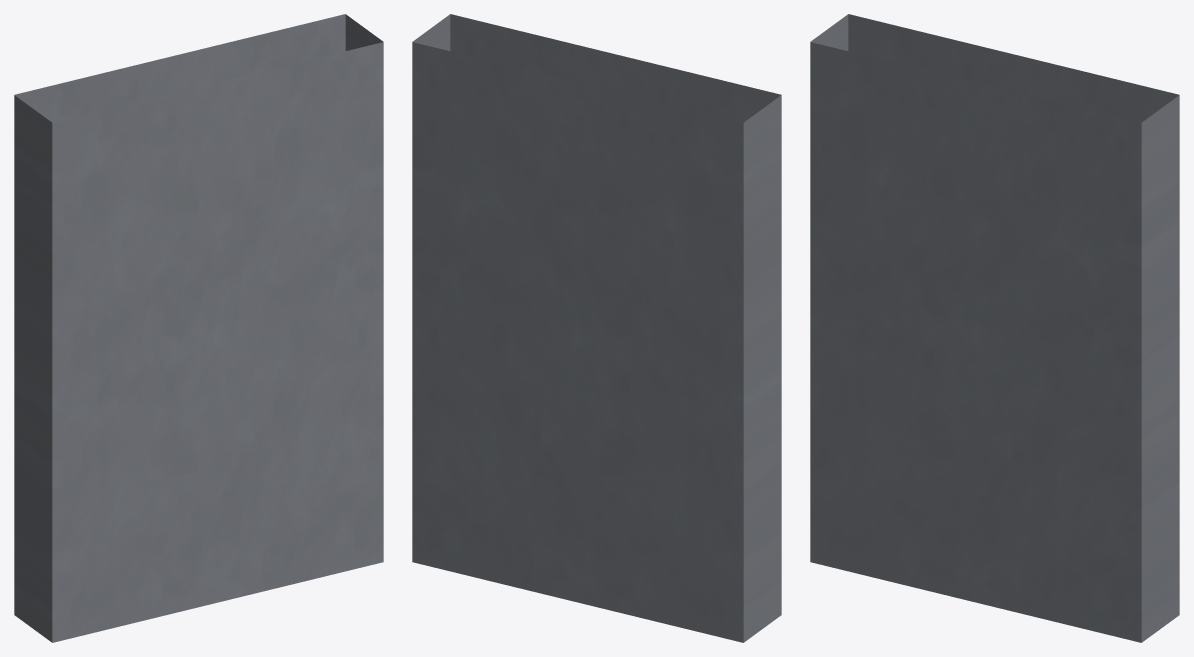
The model's file is Ev_company_inner_shell_wall.fbx.
3 views of the same model, side by side, from view 1: azimuth 30°, elevation 25°; view 2: azimuth 150°, elevation 25°; view 3: azimuth 330°, elevation 25° (orthographic).
Parts seen in each view (by area): view 1: Ev_company_inner_shell_wall; view 2: Ev_company_inner_shell_wall; view 3: Ev_company_inner_shell_wall.
Boxes of the visible parts, x1,y1,x2,y2 form: Ev_company_inner_shell_wall: [14, 14, 383, 642]; Ev_company_inner_shell_wall: [412, 14, 781, 642]; Ev_company_inner_shell_wall: [810, 14, 1179, 642].
Bounding box in the file's own units: 200 × 40 × 300.
